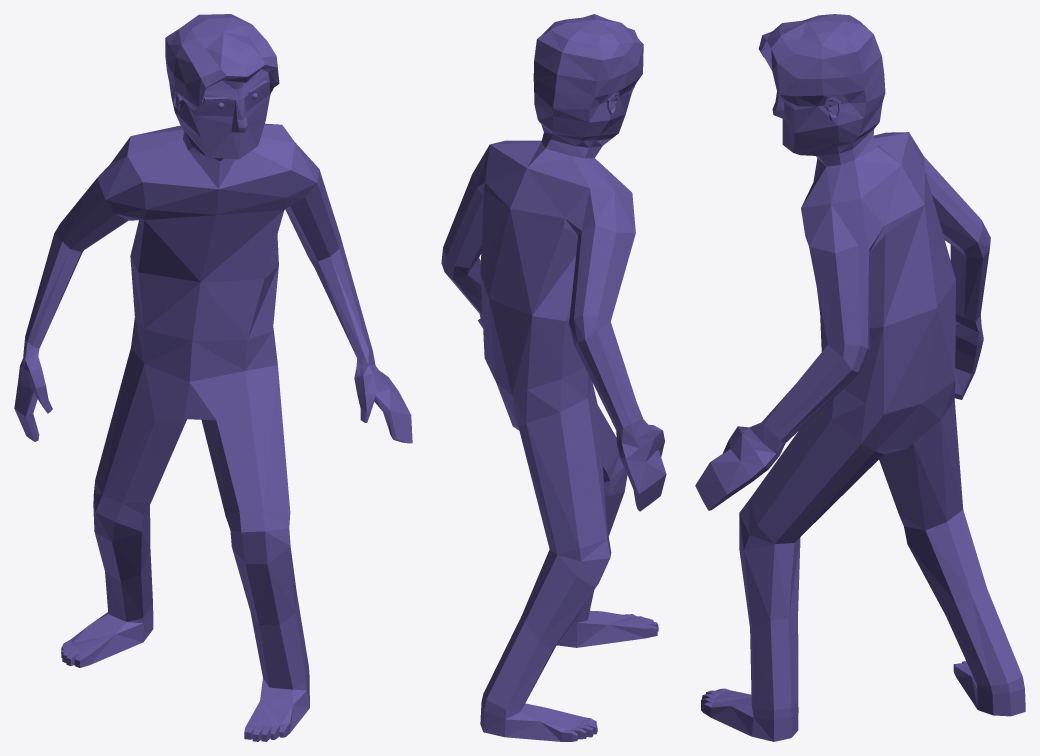
The model's file is person.obj.
The picture shows the model from 3 angles, left to right: view 1: azimuth 30°, elevation 25°; view 2: azimuth 150°, elevation 25°; view 3: azimuth 270°, elevation 25°; orthographic projection. The views are drawn at different scales.
Parts seen in each view (by area): view 1: Human_Mesh_Human_CylinderMesh.003; view 2: Human_Mesh_Human_CylinderMesh.003; view 3: Human_Mesh_Human_CylinderMesh.003.
Boxes of the visible parts, x1,y1,x2,y2 form: Human_Mesh_Human_CylinderMesh.003: [14, 14, 412, 741]; Human_Mesh_Human_CylinderMesh.003: [441, 14, 666, 741]; Human_Mesh_Human_CylinderMesh.003: [695, 14, 1025, 741].
Size of the model in its own units: 2.33 by 5.26 by 2.29.
